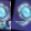mirror: (11, 0, 31, 21), (0, 0, 11, 21)
